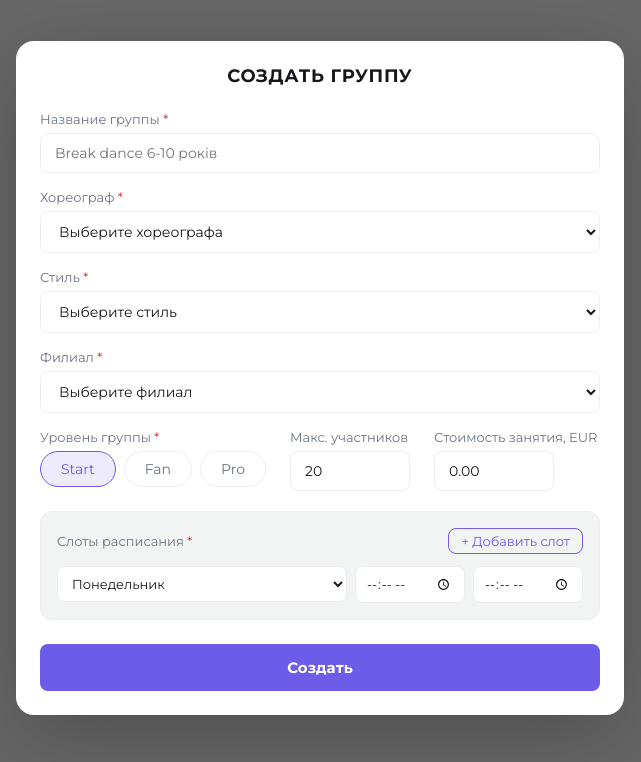
it: CreateGroupModal › adds and removes schedule slots
Click the button "+ Добавить слот" at x=516, y=541, box [448, 528, 583, 554]
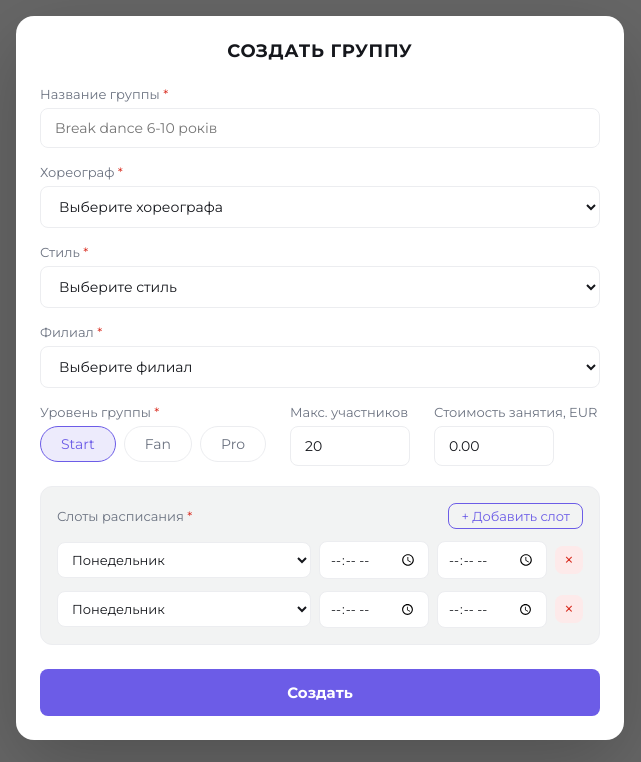
Check: the number of buttons "×" is 2
Click the 1st button "×" at x=569, y=560, box [555, 546, 583, 574]
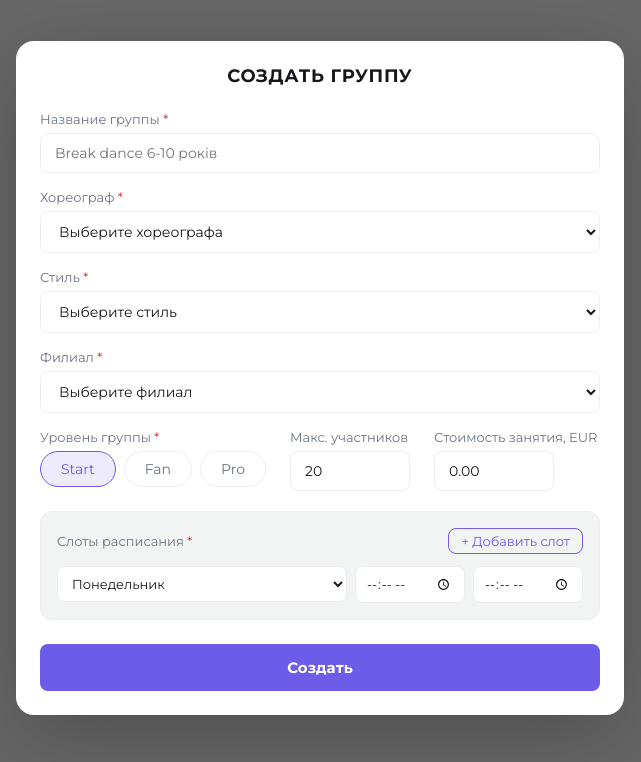
Check: no buttons "×" are shown
